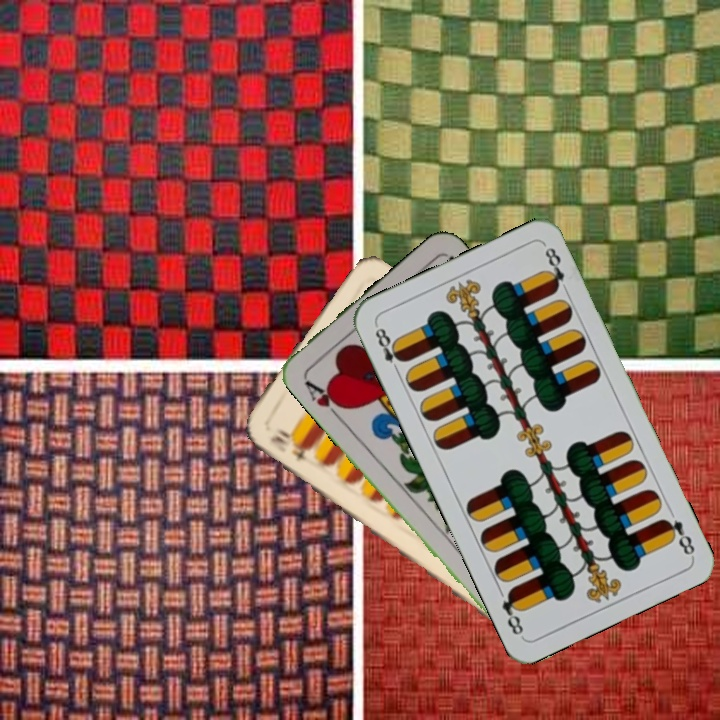E10: (266, 431, 312, 464)
E8: (371, 324, 407, 377), (658, 514, 698, 558)
HA: (299, 376, 349, 423)
